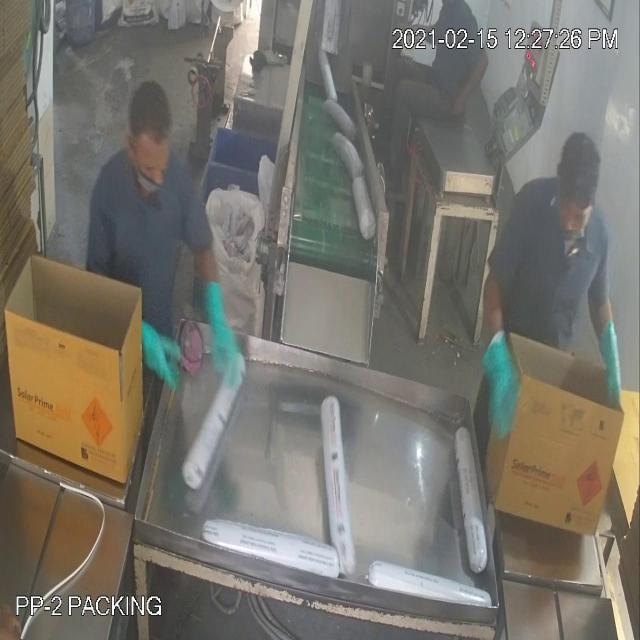No_Gloves: (27, 87, 610, 388)
